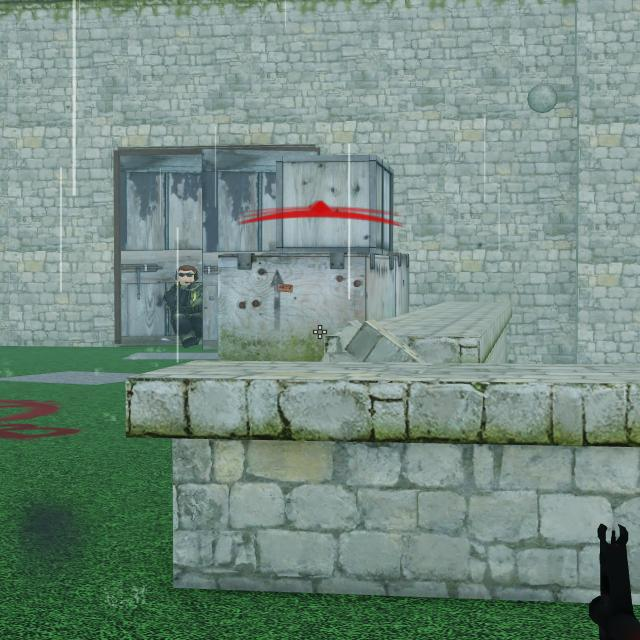Head: (176, 265, 196, 285)
Player: (165, 264, 203, 347)
